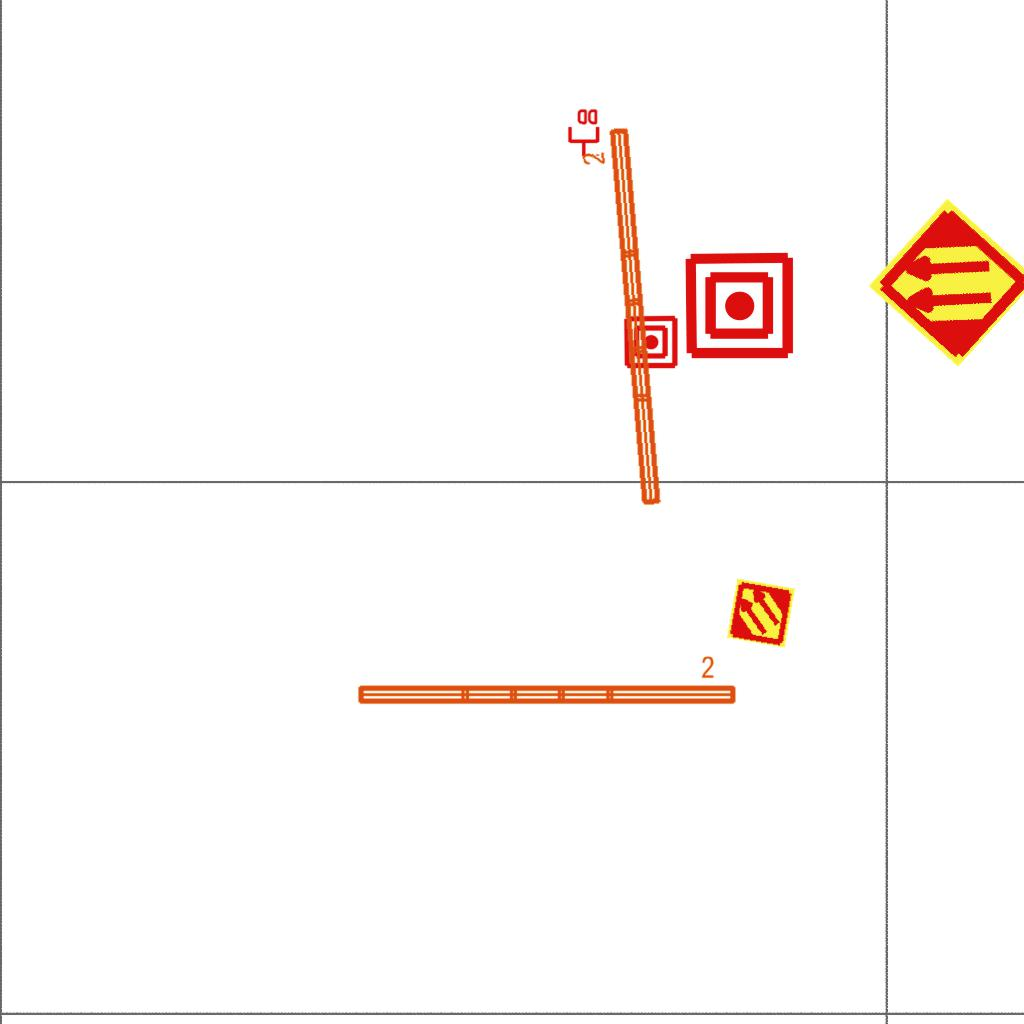ASR_Ansaugrauchmelder: (864, 194, 1024, 371), (725, 577, 797, 649)
Ambulanz_Pendelleuchte_LED: (577, 122, 668, 514), (353, 654, 740, 710)
Datenanschluss_zweifach: (566, 107, 600, 158)
NAM-Nichtautomatischer_Melder: (683, 249, 796, 362), (623, 314, 679, 370)
